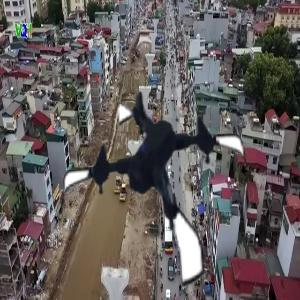drone: (55, 87, 261, 293)
